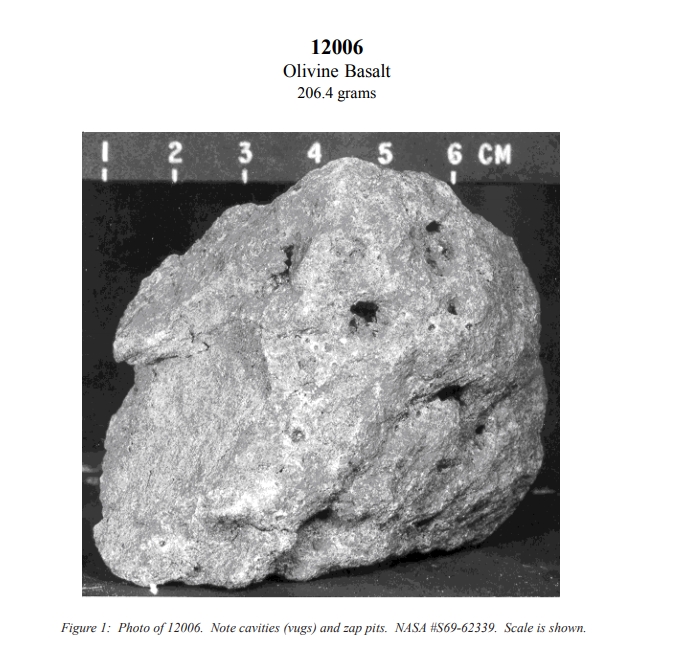Basalt: (81, 183, 558, 562), (242, 236, 485, 475)
